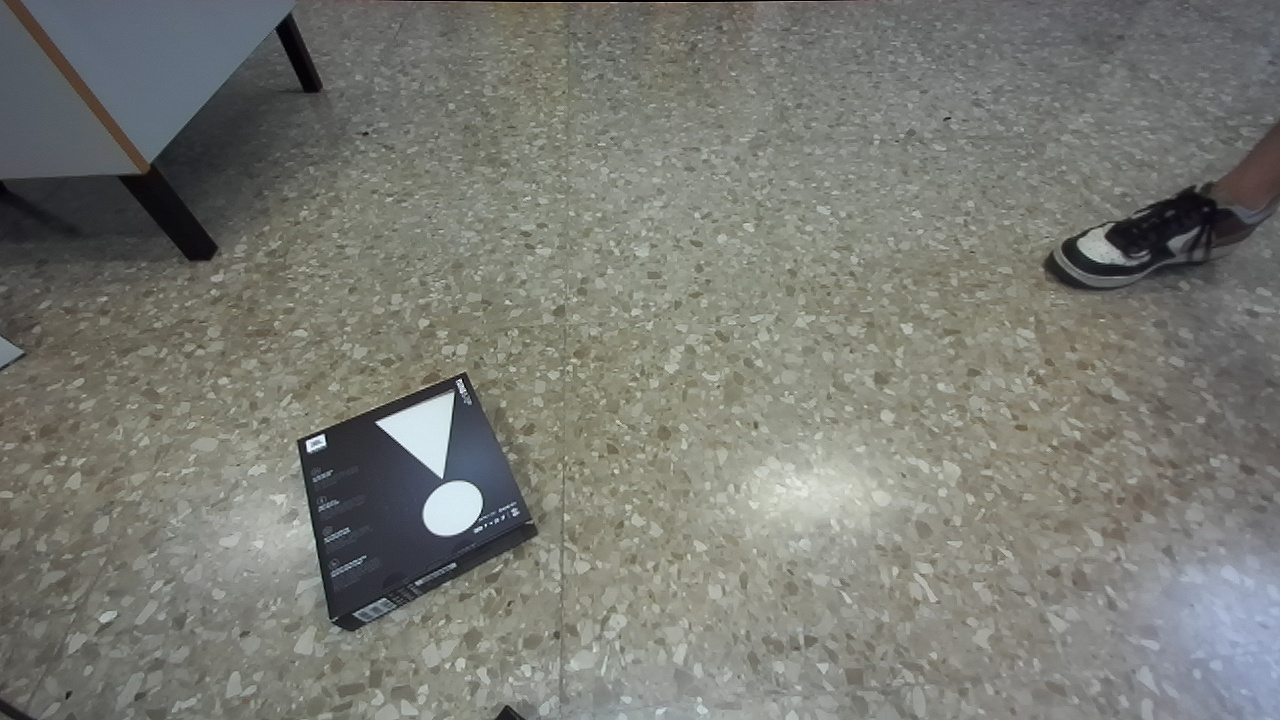caja_chasis: (297, 373, 536, 628)
